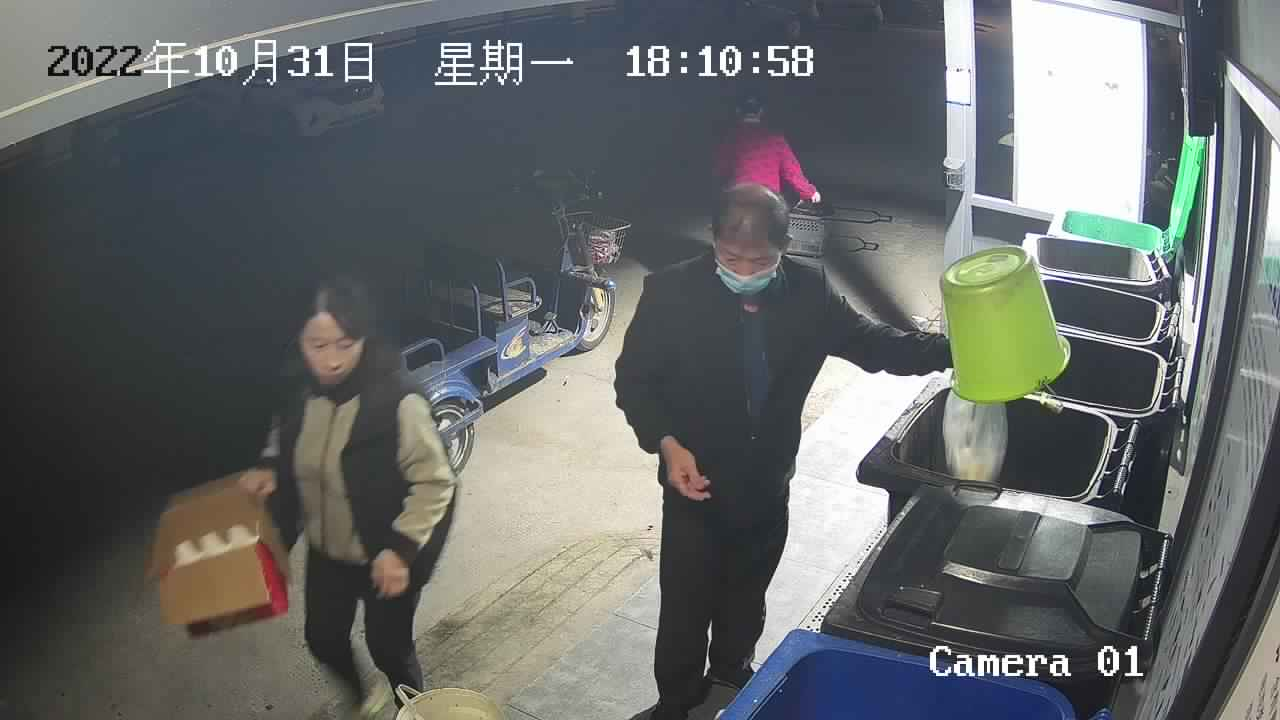person: (612, 180, 955, 719), (237, 274, 460, 714), (708, 93, 821, 207)
youtong: (939, 245, 1073, 404)
zhizhipin: (139, 465, 291, 643)
